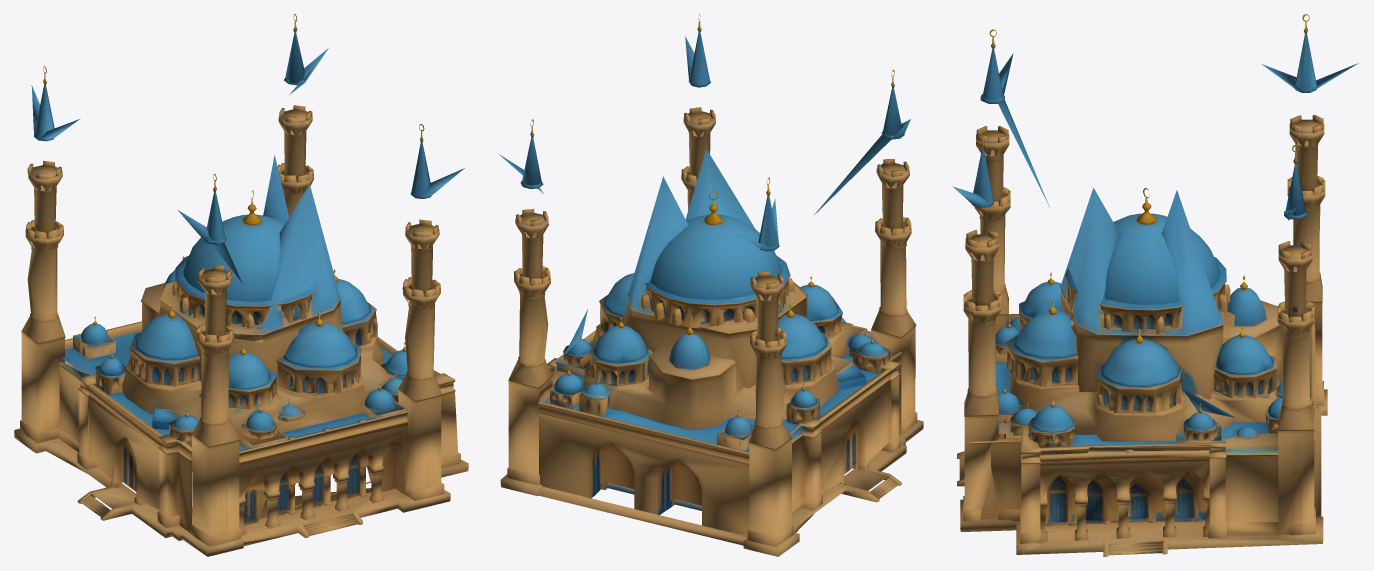
The model's file is mosque.glb.
3 views of the same model, side by side, from view 1: azimuth 30°, elevation 25°; view 2: azimuth 150°, elevation 25°; view 3: azimuth 270°, elevation 25° (orthographic). The views are drawn at different scales.
Visible parts, largest first — view 1: tripo_node_ea25c2aa-6d98-4a0a-b131-8eee5ba6f39c; view 2: tripo_node_ea25c2aa-6d98-4a0a-b131-8eee5ba6f39c; view 3: tripo_node_ea25c2aa-6d98-4a0a-b131-8eee5ba6f39c.
Boxes of the visible parts, x1,y1,x2,y2 form: tripo_node_ea25c2aa-6d98-4a0a-b131-8eee5ba6f39c: (14, 14, 468, 556); tripo_node_ea25c2aa-6d98-4a0a-b131-8eee5ba6f39c: (497, 14, 923, 556); tripo_node_ea25c2aa-6d98-4a0a-b131-8eee5ba6f39c: (952, 14, 1358, 556).
Bounding box in the file's own units: 0.9107 × 0.9995 × 0.9341.
1 material, 1 textured.
